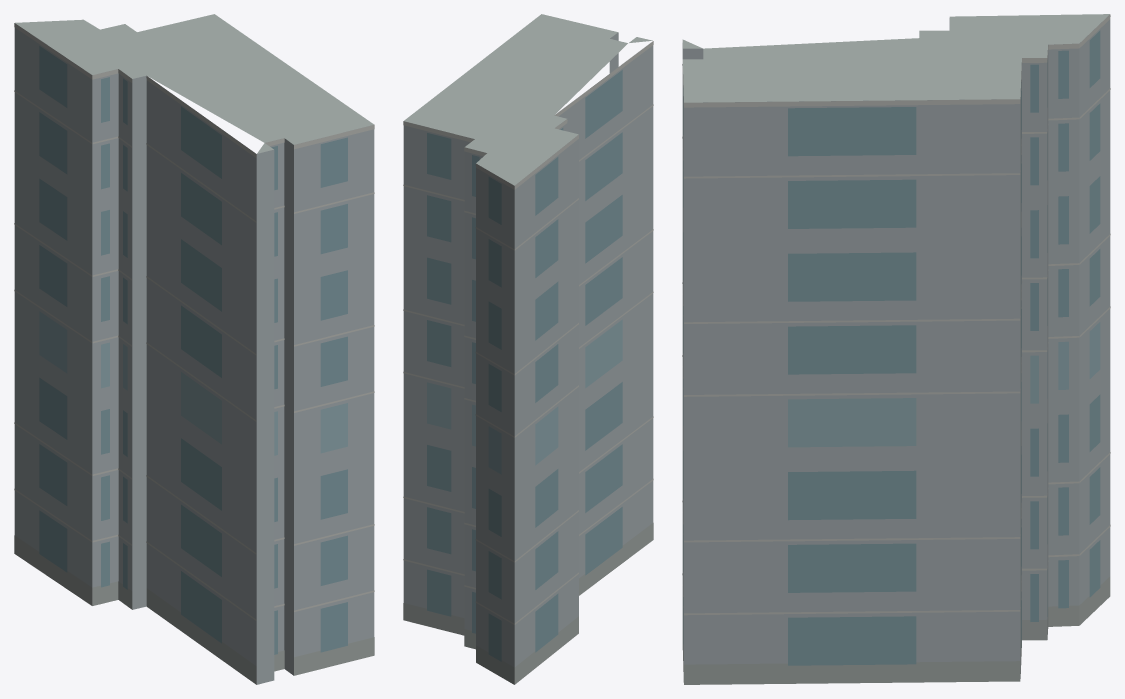
File: survey-upis-32661527.glb
3 renders of one model, left to right at view 1: azimuth 30°, elevation 25°; view 2: azimuth 150°, elevation 25°; view 3: azimuth 270°, elevation 25°, orthographic. The views are drawn at different scales.
Visible parts, largest first — view 1: survey-upis-32661527.tmp; view 2: survey-upis-32661527.tmp; view 3: survey-upis-32661527.tmp.
Boxes of the visible parts, left/top/right/bottom form: survey-upis-32661527.tmp: left=14, top=14, right=374, bottom=684; survey-upis-32661527.tmp: left=403, top=14, right=653, bottom=684; survey-upis-32661527.tmp: left=682, top=14, right=1110, bottom=684.
Bounding box in the file's own units: 9.43 × 28.8 × 19.2.
